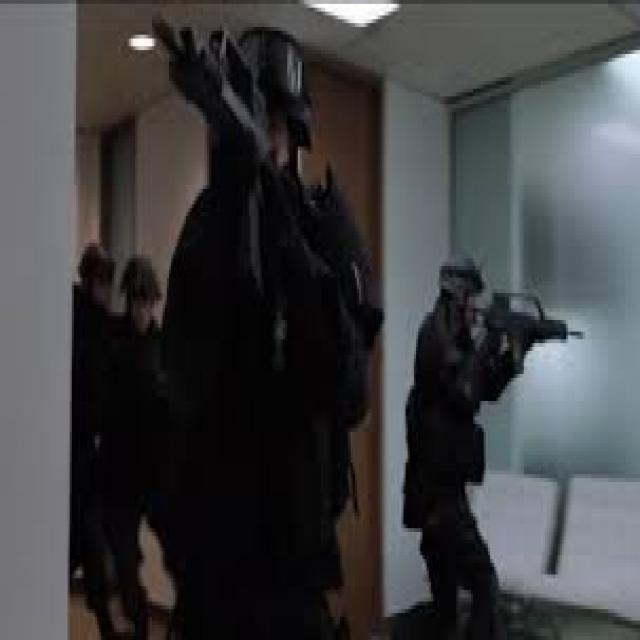weapon: (155, 12, 326, 306), (446, 284, 586, 379)
